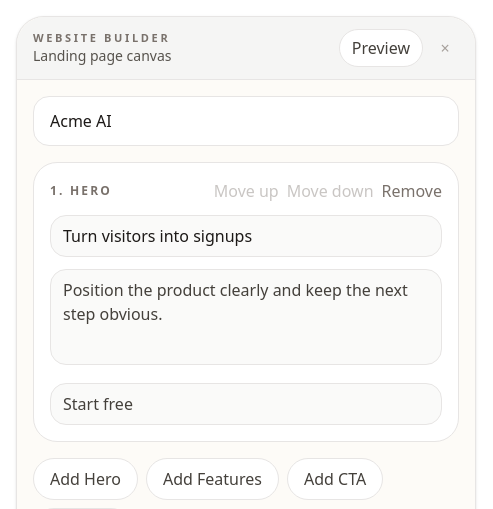
WebsiteBuilder › renders hero preview content including heading, body, and button text
Click the button "Preview" at (381, 48), box [339,29,423,67]
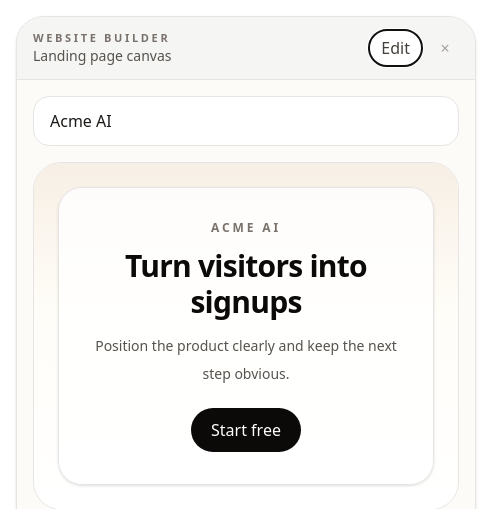
Expected: the heading "Turn visitors into signups" is shown, [125,245,367,322]
Expected: the text "Position the product clearly and keep the next step obvious." is shown, [83,332,409,388]
Expected: the button "Start free" is shown, [191,408,301,452]
